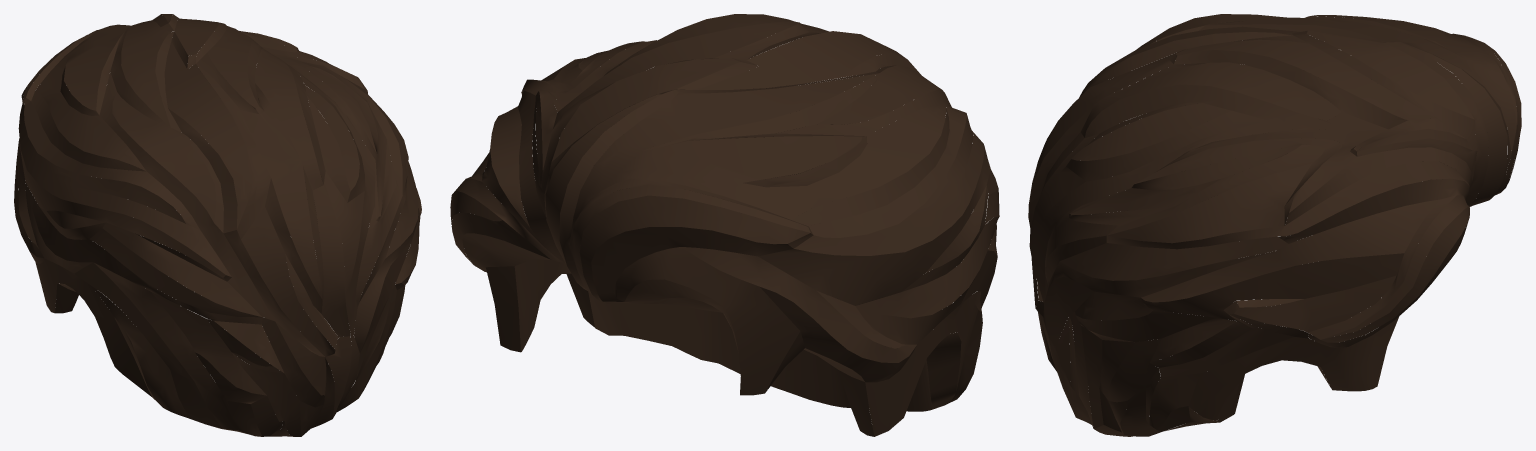
The picture shows the model from 3 angles, left to right: view 1: azimuth 30°, elevation 25°; view 2: azimuth 150°, elevation 25°; view 3: azimuth 270°, elevation 25°; orthographic projection. The views are drawn at different scales.
Visible parts, largest first — view 1: geometry_0; view 2: geometry_0; view 3: geometry_0.
Boxes of the visible parts, box(x1,y1,x2,y2) form: geometry_0: box(14, 14, 421, 436); geometry_0: box(450, 14, 999, 436); geometry_0: box(1028, 14, 1521, 436).
Bounding box in the file's own units: 1.4 × 1.3 × 1.52.
1 material, 1 textured.
